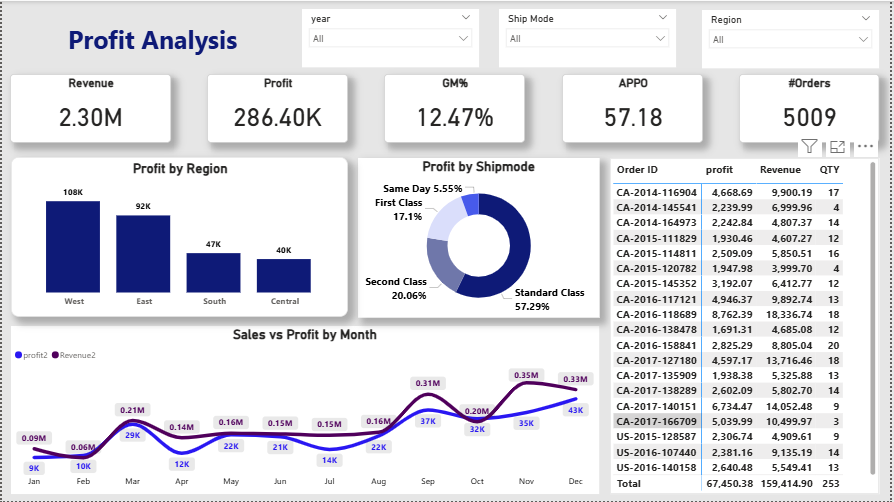

What the dashboard file says about the page in this screenshot:
{"tool":"powerbi","page":{"name":"Profit analysis","canvas":[1280,720],"ordinal":3},"visuals":[{"type":"card","title":"Revenue","fields":{"Values":["Calculations2.Revenue2"]},"box":[11.5,104.9,231.8,99.4],"z":0},{"type":"card","title":"Profit","fields":{"Values":["Calculations2.profit2"]},"box":[295.5,105.1,203,99.4],"z":1000},{"type":"card","title":"GM%","fields":{"Values":["Calculations2.GM%"]},"box":[550.8,104.9,203.3,99.1],"z":2000},{"type":"card","title":"APPO","fields":{"Values":["Calculations2.APPO"]},"box":[806.2,104.9,203.3,99.1],"z":3000},{"type":"card","title":"#Orders","fields":{"Values":["Calculations2.#order2"]},"box":[1061.6,104.9,201.6,99.1],"z":4000},{"type":"lineChart","title":"Sales vs Profit by Month","fields":{"Category":["calender_date.month_name"],"Y":["Calculations2.profit2"],"Y2":["Calculations2.Revenue2"]},"box":[13.4,468.7,846.6,241.9],"z":5000},{"type":"donutChart","title":"Profit by Shipmode","fields":{"Category":["dshipmode.Ship Mode"],"Y":["Calculations2.profit2"]},"box":[512.3,226.8,347.7,230.1],"z":6000},{"type":"pivotTable","fields":{"Rows":["fact_orders.Order ID"],"Values":["Calculations.profit","Calculations.Revenue","Calculations.QTY"]},"box":[875.2,226.8,388,483.8],"z":7000},{"type":"actionButton","box":[25.2,15.1,384.7,80.6],"z":8000},{"type":"clusteredColumnChart","title":"Profit by Region","fields":{"Category":["dlocations.Region"],"Y":["Calculations2.profit2"]},"box":[13.4,225.1,485.5,230.1],"z":9000},{"type":"slicer","fields":{"Values":["dshipmode.Ship Mode"]},"box":[715.6,11.8,255.3,84],"z":10000},{"type":"slicer","fields":{"Values":["calender_date.year"]},"box":[431.7,11.8,255.3,84],"z":11000},{"type":"slicer","fields":{"Values":["dlocations.Region"]},"box":[1007.9,13.4,255.3,84],"z":12000}]}

Visuals, with their boxes in screenshot pixels (x1, y1, x2, y2), scaled from the page's 1280x720 canvas onto the 894x502 screenshot:
"Revenue" card: {"x1": 8, "y1": 73, "x2": 170, "y2": 142}
"Profit" card: {"x1": 206, "y1": 73, "x2": 348, "y2": 143}
"GM%" card: {"x1": 385, "y1": 73, "x2": 527, "y2": 142}
"APPO" card: {"x1": 563, "y1": 73, "x2": 705, "y2": 142}
"#Orders" card: {"x1": 741, "y1": 73, "x2": 882, "y2": 142}
"Sales vs Profit by Month" lineChart: {"x1": 9, "y1": 327, "x2": 601, "y2": 495}
"Profit by Shipmode" donutChart: {"x1": 358, "y1": 158, "x2": 601, "y2": 319}
pivotTable - fact_orders.Order ID x Calculations.profit: {"x1": 611, "y1": 158, "x2": 882, "y2": 495}
actionButton: {"x1": 18, "y1": 11, "x2": 286, "y2": 67}
"Profit by Region" clusteredColumnChart: {"x1": 9, "y1": 157, "x2": 348, "y2": 317}
slicer - dshipmode.Ship Mode: {"x1": 500, "y1": 8, "x2": 678, "y2": 67}
slicer - calender_date.year: {"x1": 302, "y1": 8, "x2": 480, "y2": 67}
slicer - dlocations.Region: {"x1": 704, "y1": 9, "x2": 882, "y2": 68}
